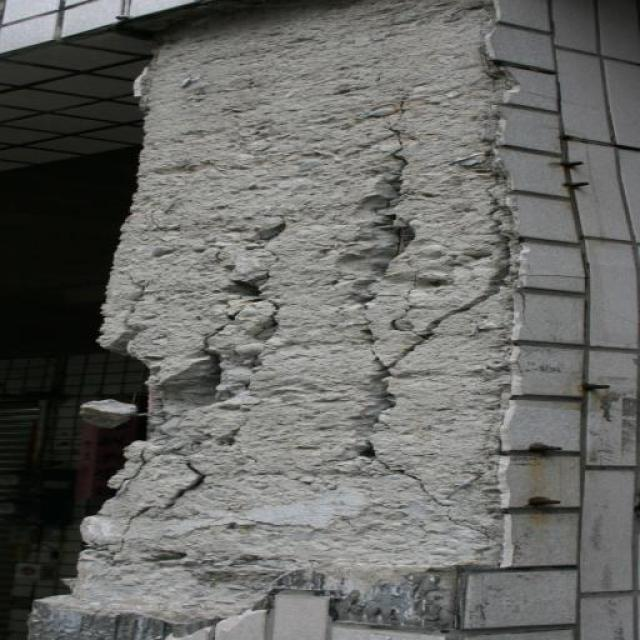D10: (60, 0, 511, 620)
